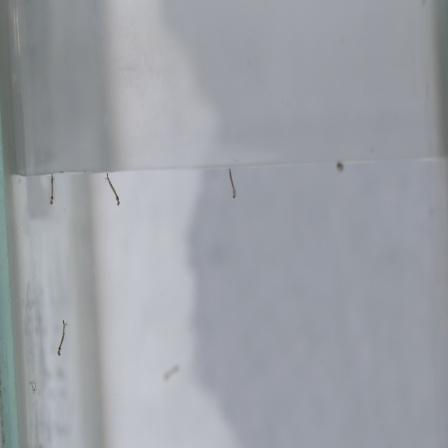Jentik-Nyamuk: (100, 170, 125, 211), (52, 317, 75, 360), (40, 171, 59, 211), (225, 163, 243, 201)
